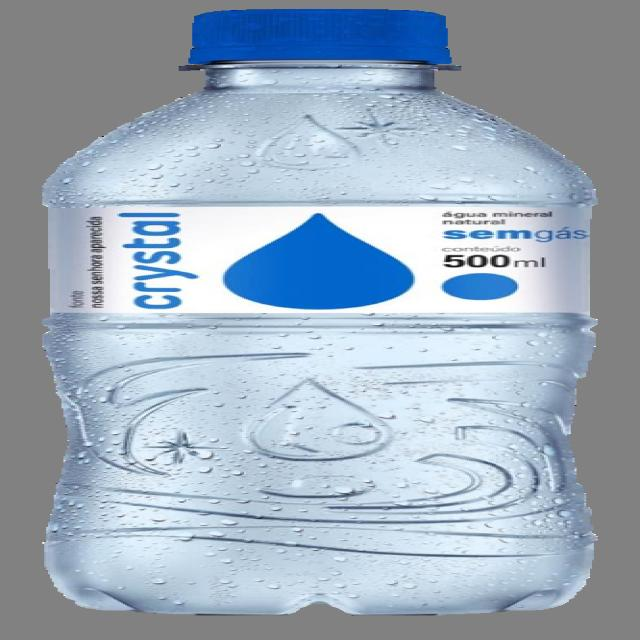bottle: (43, 10, 593, 614)
